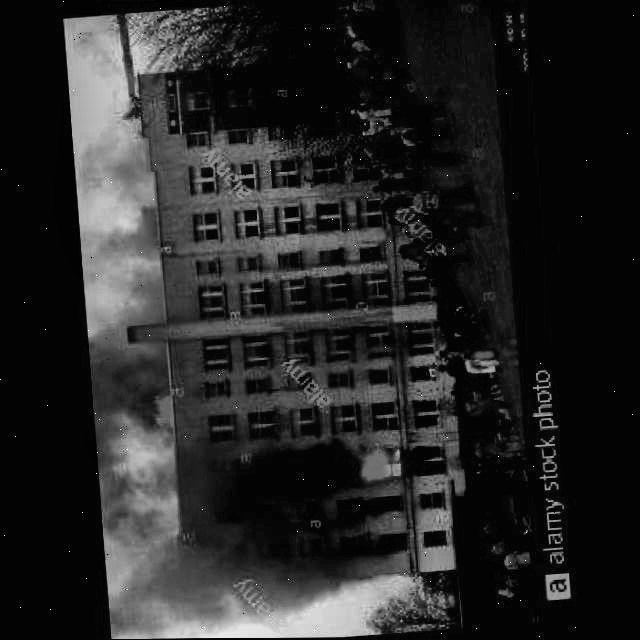Fire: (355, 439, 400, 484), (145, 394, 174, 430), (144, 248, 160, 279)
Smoke: (101, 431, 363, 638), (82, 326, 152, 446)
